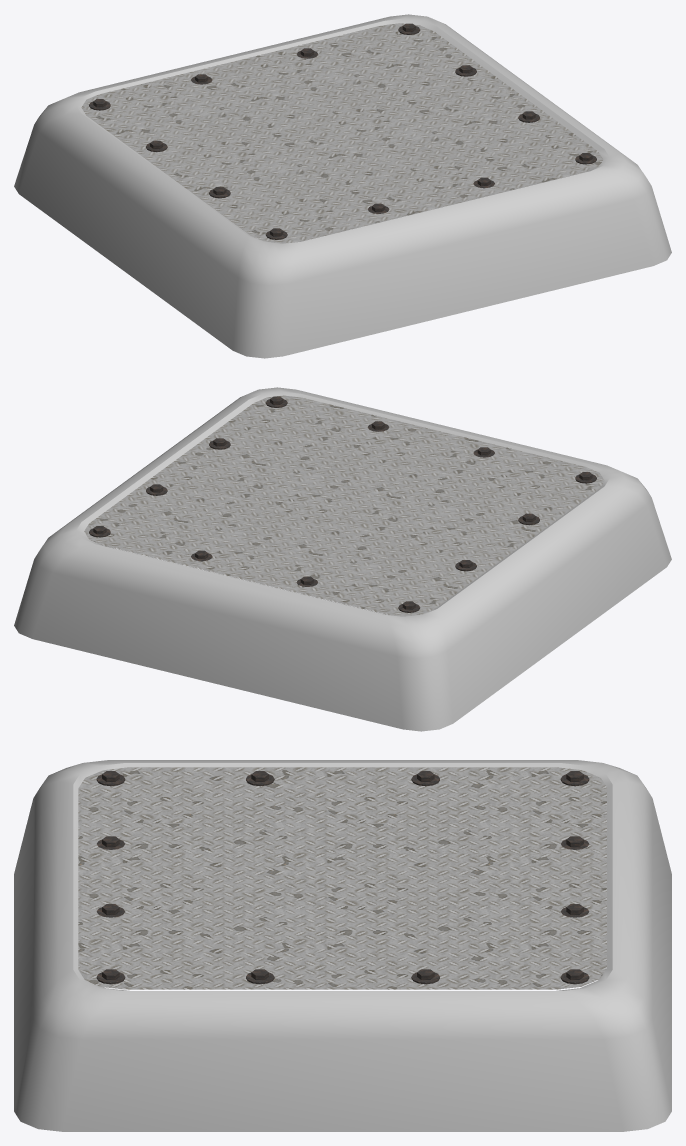
File: tower_base.fbx
The picture shows the model from 3 angles, top to bottom: view 1: azimuth 30°, elevation 25°; view 2: azimuth 150°, elevation 25°; view 3: azimuth 270°, elevation 25°; orthographic projection. The views are drawn at different scales.
Parts seen in each view (by area): view 1: Cube, Cube.001, Cylinder.001; view 2: Cube, Cube.001, Cylinder.001; view 3: Cube, Cube.001, Cylinder.001.
Boxes of the visible parts, bbox=[...] form: Cube: bbox=[14, 14, 671, 358]; Cube.001: bbox=[81, 23, 603, 243]; Cylinder.001: bbox=[89, 23, 596, 239]; Cube: bbox=[14, 387, 671, 731]; Cube.001: bbox=[84, 395, 604, 616]; Cylinder.001: bbox=[89, 396, 596, 612]; Cube: bbox=[14, 760, 671, 1131]; Cube.001: bbox=[78, 767, 606, 989]; Cylinder.001: bbox=[96, 771, 589, 984].
Size of the model in its own units: 200 by 40.08 by 200.
